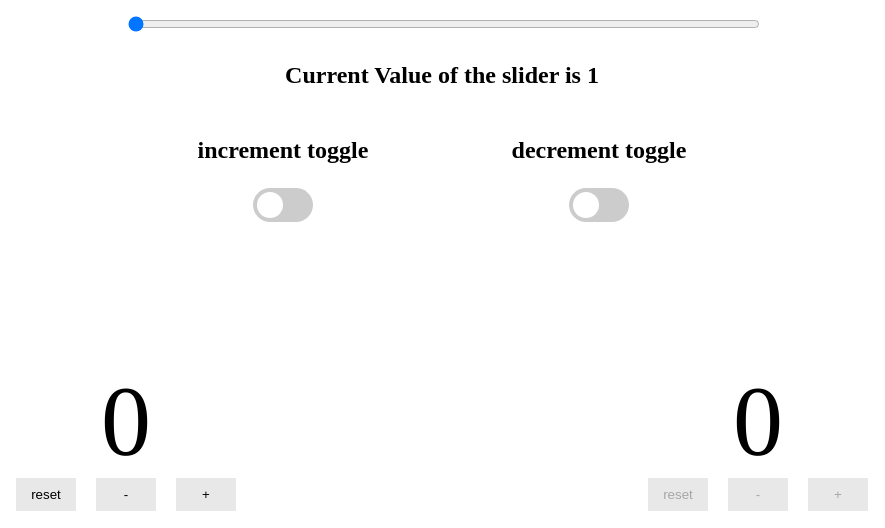
test app functionalities › should increment correctly without crashing
The width and height of the screenshot is (885, 528).
Click the 1st button with test id "add-btn-testid" at (206, 494), box top-left (176, 478), bottom-right (236, 511)
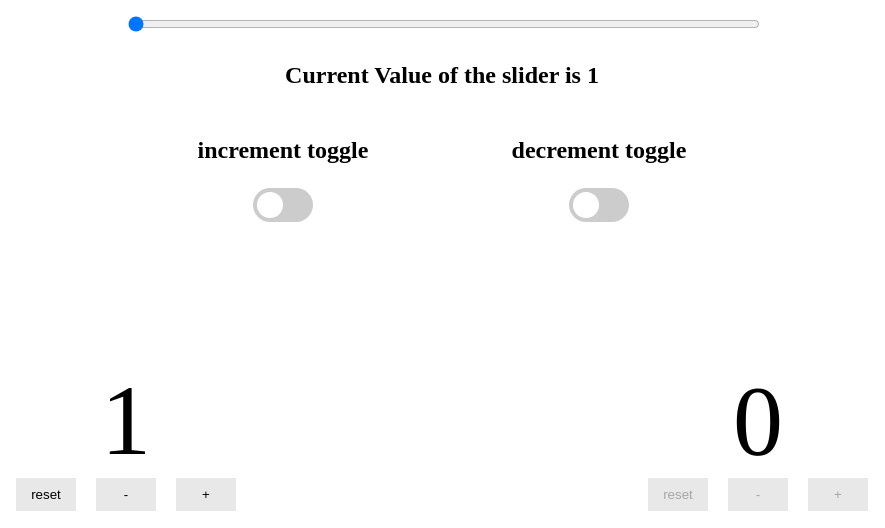
Check: the 1st text with test id "count-value-testid" reads "1", box top-left (101, 363), bottom-right (151, 478)
